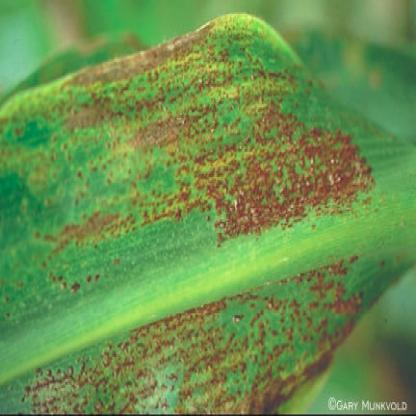Corn rust leaf: (1, 23, 383, 414)
